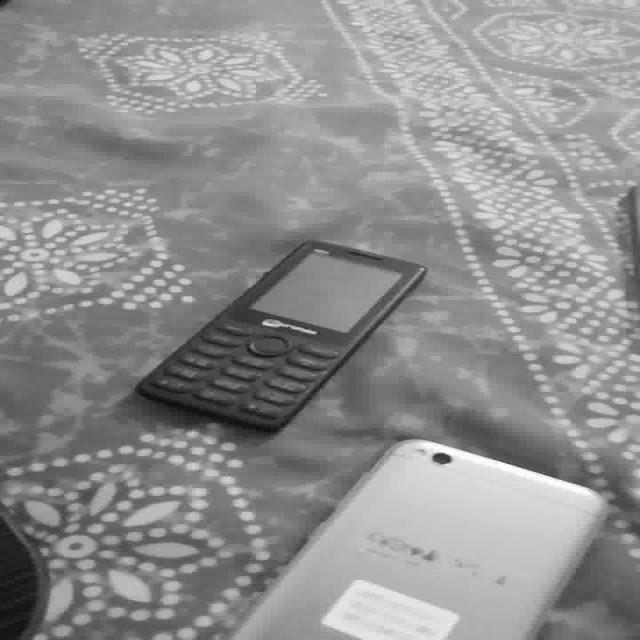fake: (123, 221, 441, 442)
